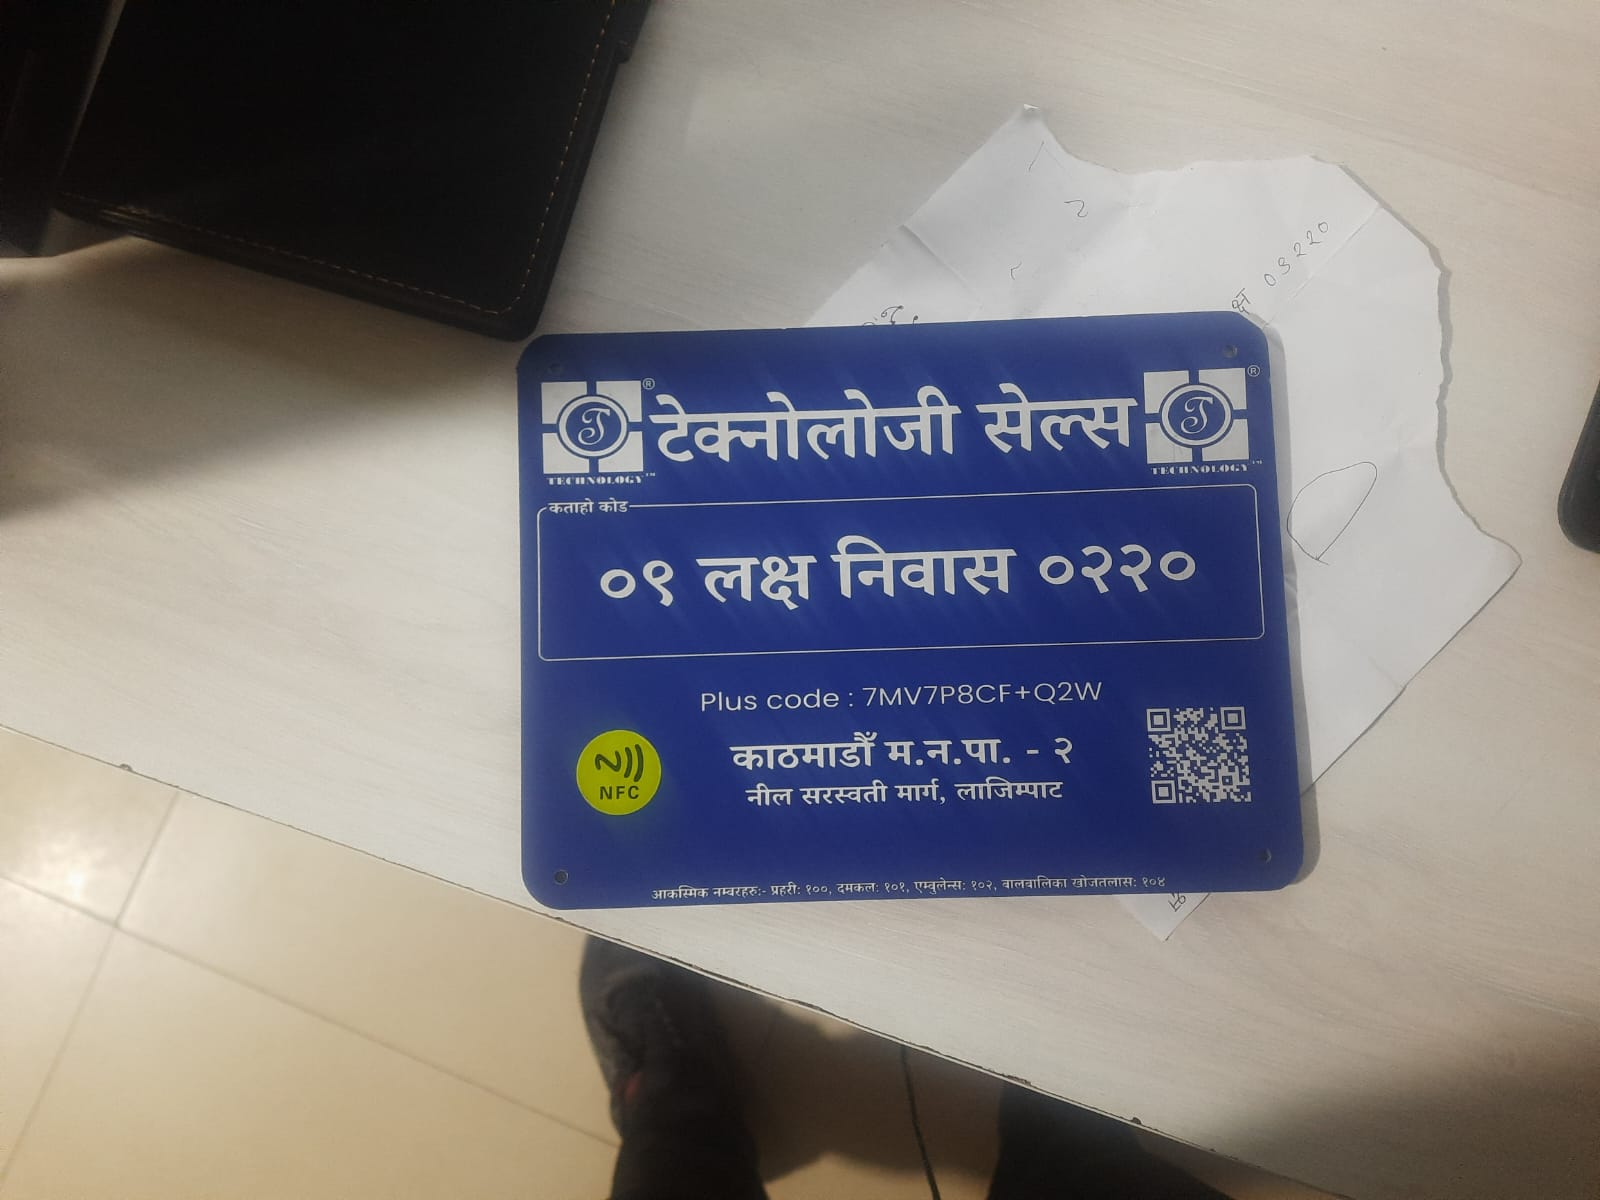Plate: (502, 307, 1326, 916)
